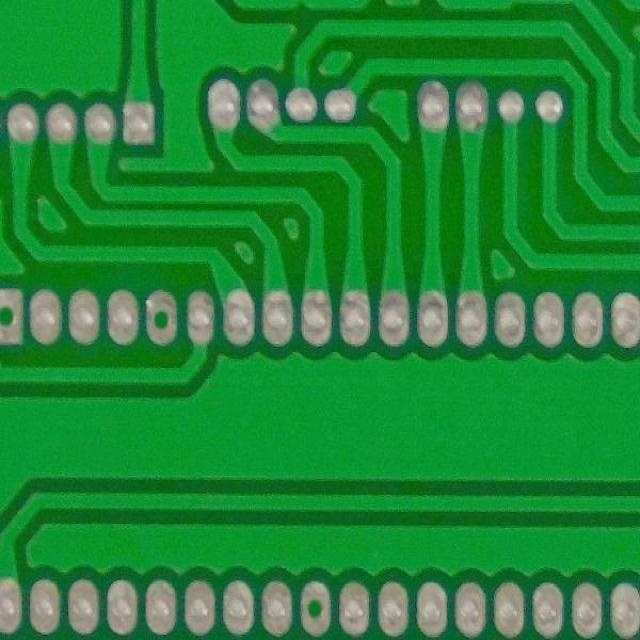missing hole: (143, 282, 182, 350), (298, 577, 337, 639), (1, 280, 26, 351)
